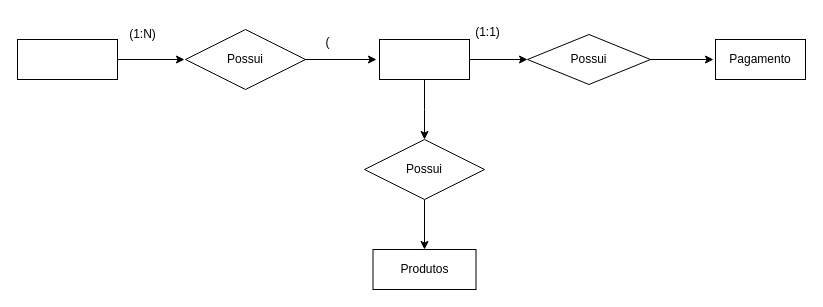
Image size: 823x307. Some labels were removed from this diagram. The shapes that lost their labels are listed below. From the top down, each one's centre as x and y in pixels, then its label:
At point (67, 59): "Cliente".
At point (424, 59): "Pedido".
